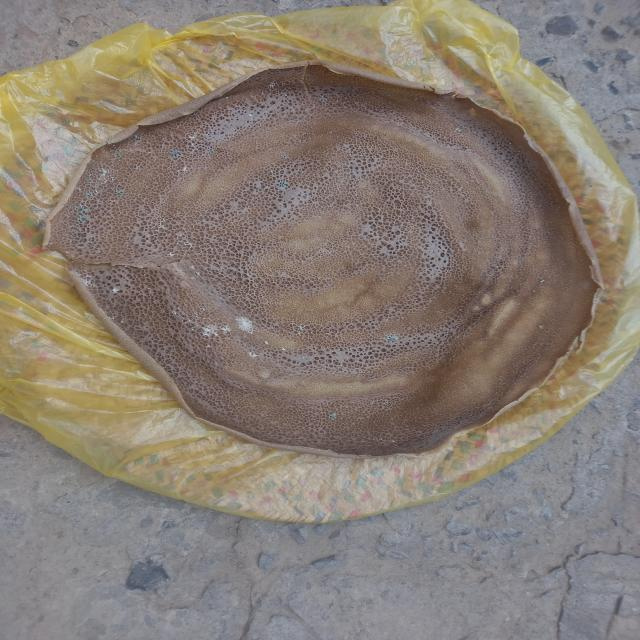injera_mold: (167, 308, 194, 332), (261, 80, 289, 98), (287, 322, 316, 339), (202, 324, 231, 341), (234, 316, 257, 335), (97, 167, 119, 185), (76, 272, 100, 288), (181, 131, 204, 147), (105, 310, 129, 325), (371, 438, 399, 450), (151, 215, 169, 232), (176, 240, 195, 249), (66, 205, 87, 213), (193, 307, 206, 318), (168, 149, 183, 157), (247, 350, 261, 358), (386, 334, 398, 343), (278, 181, 288, 189), (318, 95, 328, 102), (180, 166, 190, 173), (110, 288, 121, 294), (85, 191, 94, 198), (329, 413, 337, 420), (269, 170, 277, 177), (77, 217, 86, 223), (114, 190, 123, 196), (114, 152, 123, 157), (166, 252, 174, 257), (208, 149, 215, 154), (282, 154, 290, 158), (74, 187, 82, 191), (90, 168, 96, 173), (76, 245, 83, 249), (85, 179, 92, 183), (538, 325, 544, 329), (86, 243, 92, 247), (455, 128, 461, 132), (206, 345, 212, 348), (539, 280, 545, 283), (202, 167, 208, 170), (264, 341, 269, 344), (281, 348, 285, 350)
